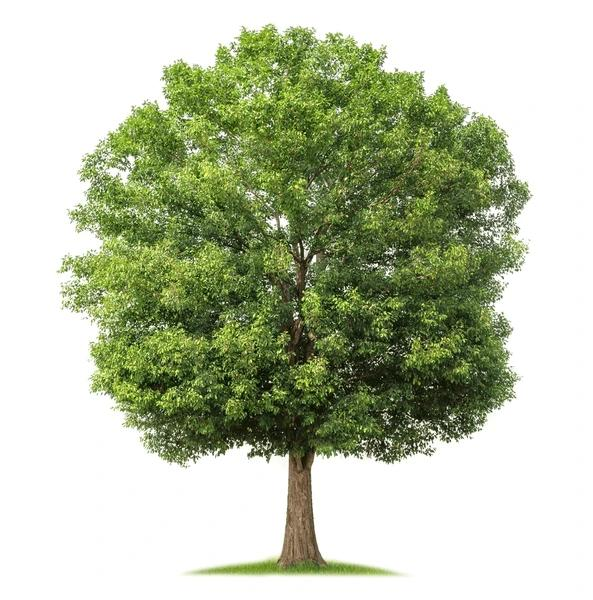non-mango: (57, 22, 532, 571)
